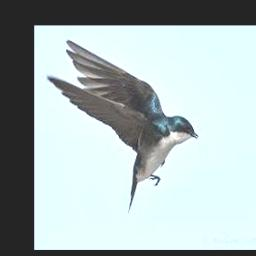Swallow: (47, 39, 197, 212)
